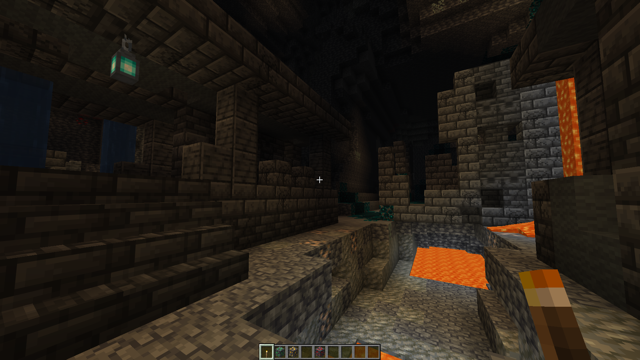iron: (302, 237, 331, 262), (315, 305, 336, 336), (339, 226, 359, 254), (308, 226, 326, 236)
